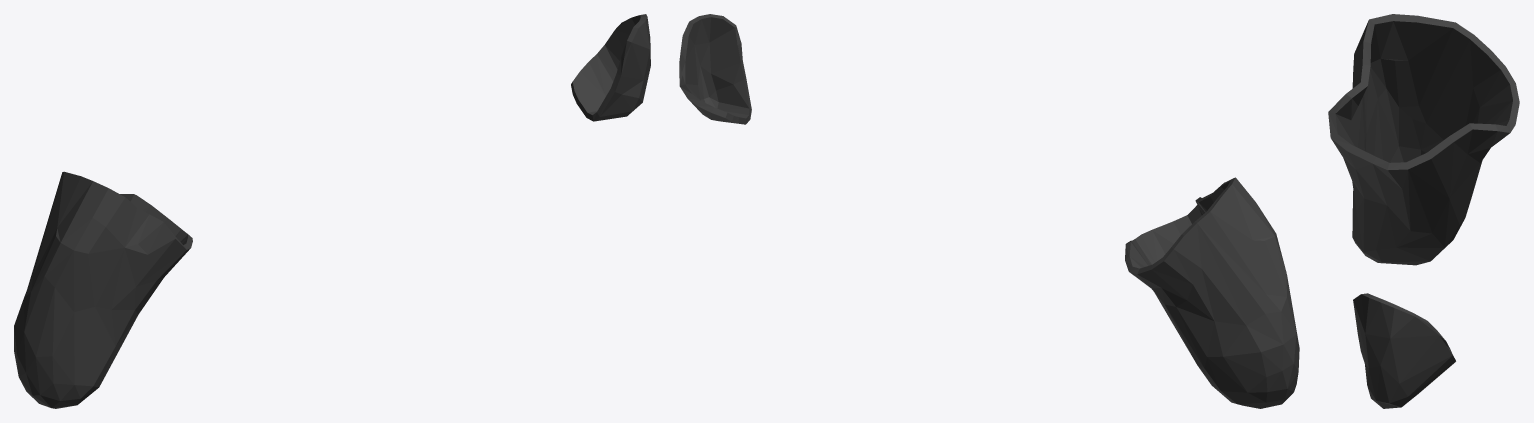
The model's file is l1_accessory_process.glb.
3 views of the same model, side by side, from view 1: azimuth 30°, elevation 25°; view 2: azimuth 150°, elevation 25°; view 3: azimuth 270°, elevation 25° (orthographic). The views are drawn at different scales.
Visible parts, largest first — view 1: l1_accessory_process; view 2: l1_accessory_process; view 3: l1_accessory_process.
Boxes of the visible parts, box(x1,y1,x2,y2) form: l1_accessory_process: box(14, 14, 650, 408); l1_accessory_process: box(679, 14, 1299, 408); l1_accessory_process: box(1328, 14, 1519, 408).
Bounding box in the file's own units: 25.41 × 9.75 × 5.47.
1 material, 1 textured.
